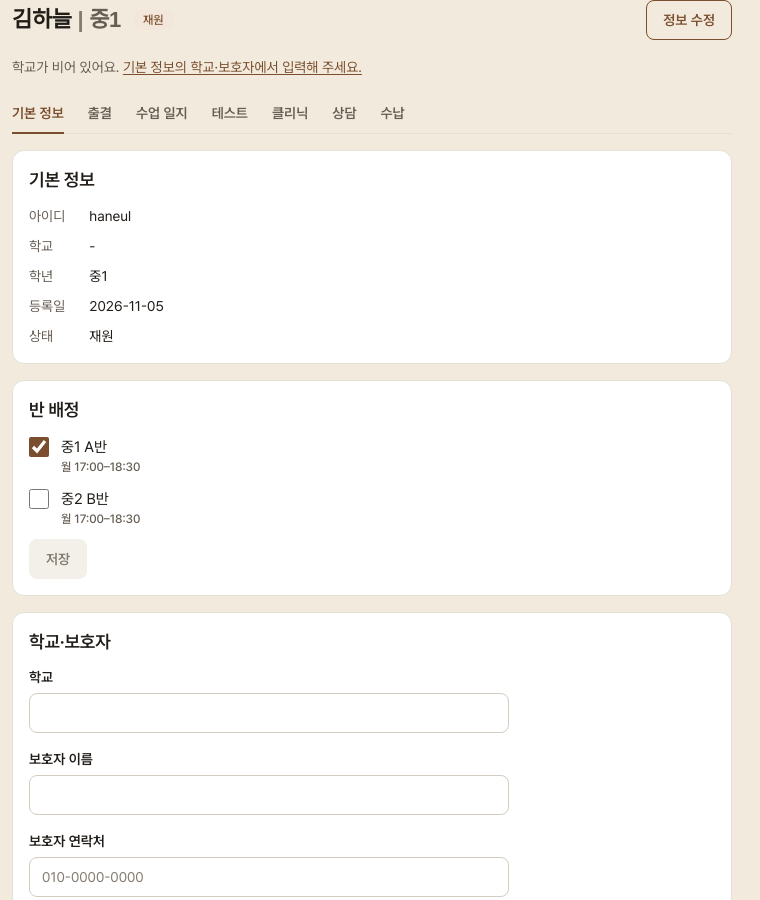
Test: StudentDetailScreen › enables the class save only after a change and saves the diff
expect the heading "반 배정" is shown: met, box [29,397,79,423]
expect the button "저장" is disabled: met, box [29,539,87,579]
Click the checkbox labelled "중2 B반": [39, 499] box [29,489,49,509]
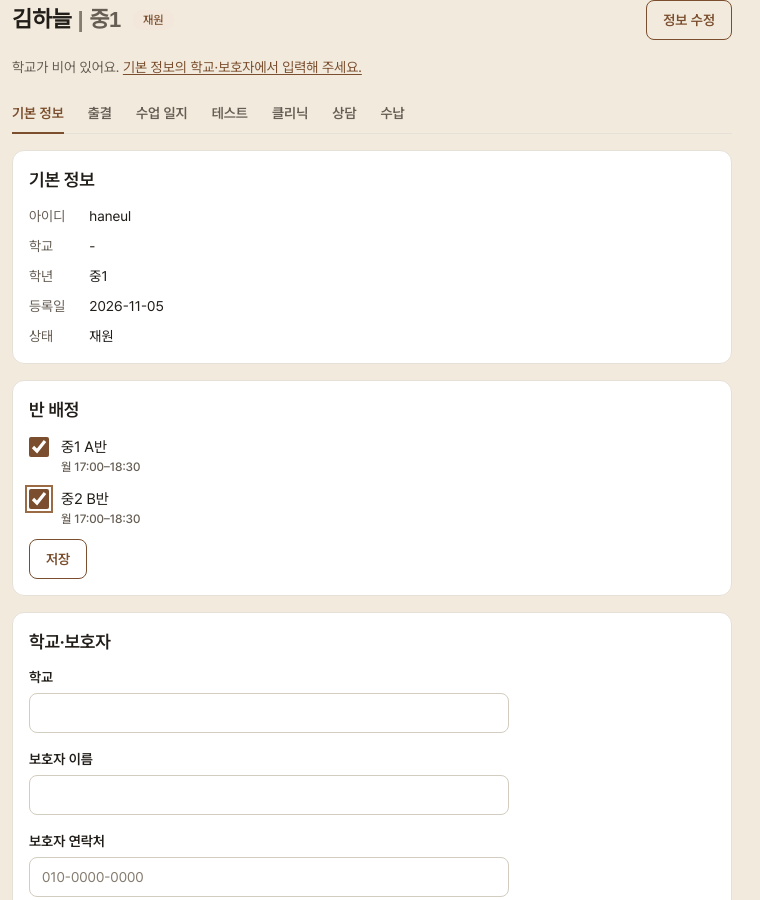
expect the button "저장" is enabled: met
Click the button "저장": [58, 559] box [29,539,87,579]
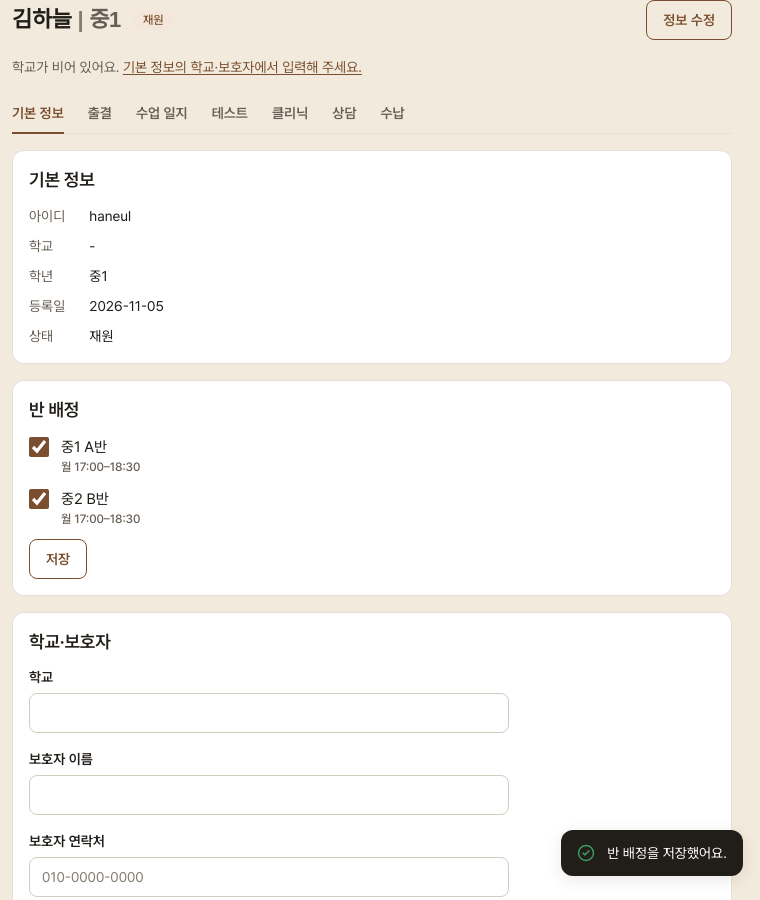
expect the text "반 배정을 저장했어요." is shown: met, box [607,842,727,864]
